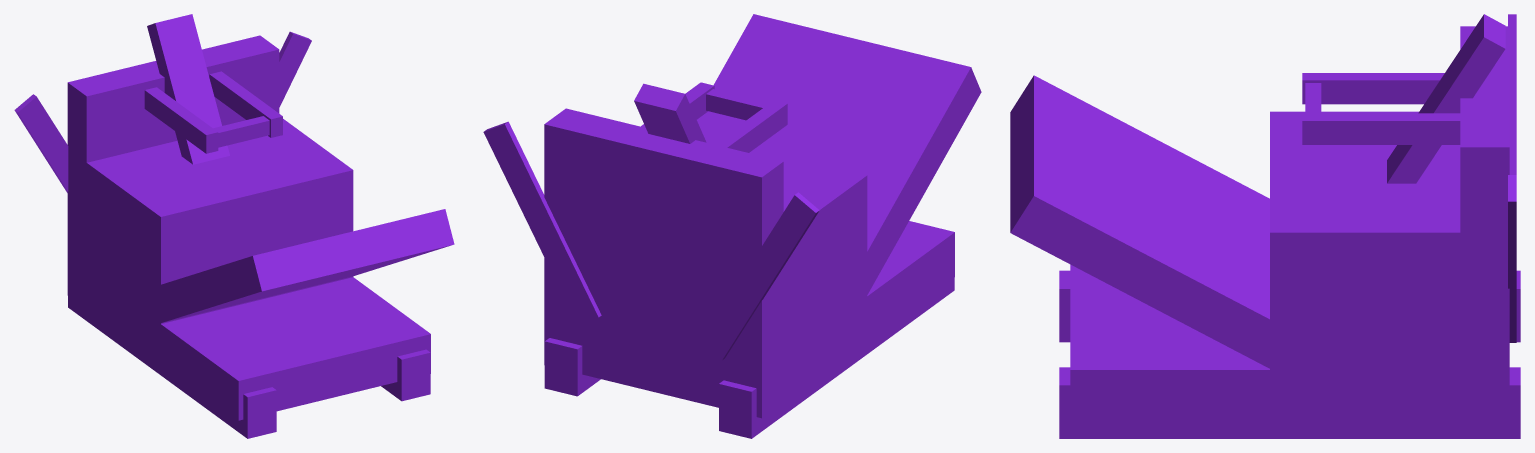
The picture shows the model from 3 angles, left to right: view 1: azimuth 30°, elevation 25°; view 2: azimuth 150°, elevation 25°; view 3: azimuth 270°, elevation 25°; orthographic projection. The views are drawn at different scales.
Visible parts, largest first — view 1: Cube.002; view 2: Cube.002; view 3: Cube.002.
Boxes of the visible parts, box(x1,y1,x2,y2) form: Cube.002: box(14, 14, 454, 438); Cube.002: box(483, 14, 981, 438); Cube.002: box(1010, 14, 1520, 438).
Bounding box in the file's own units: 306 × 275 × 357.
